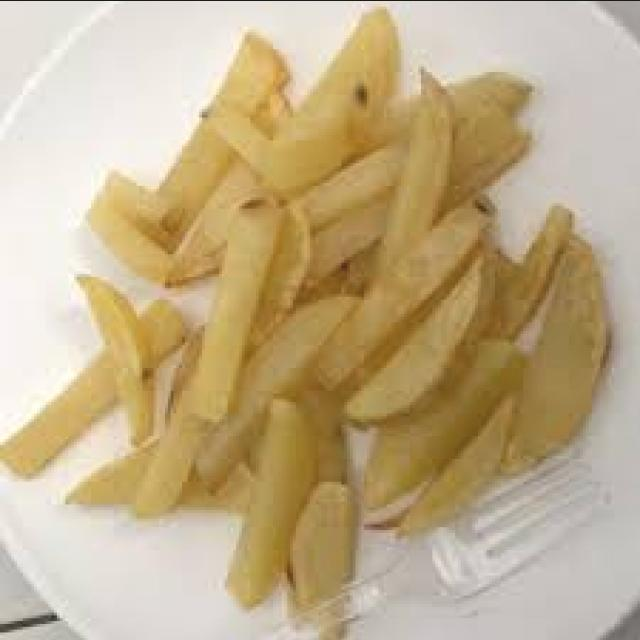kentang goreng: (0, 6, 614, 612)
